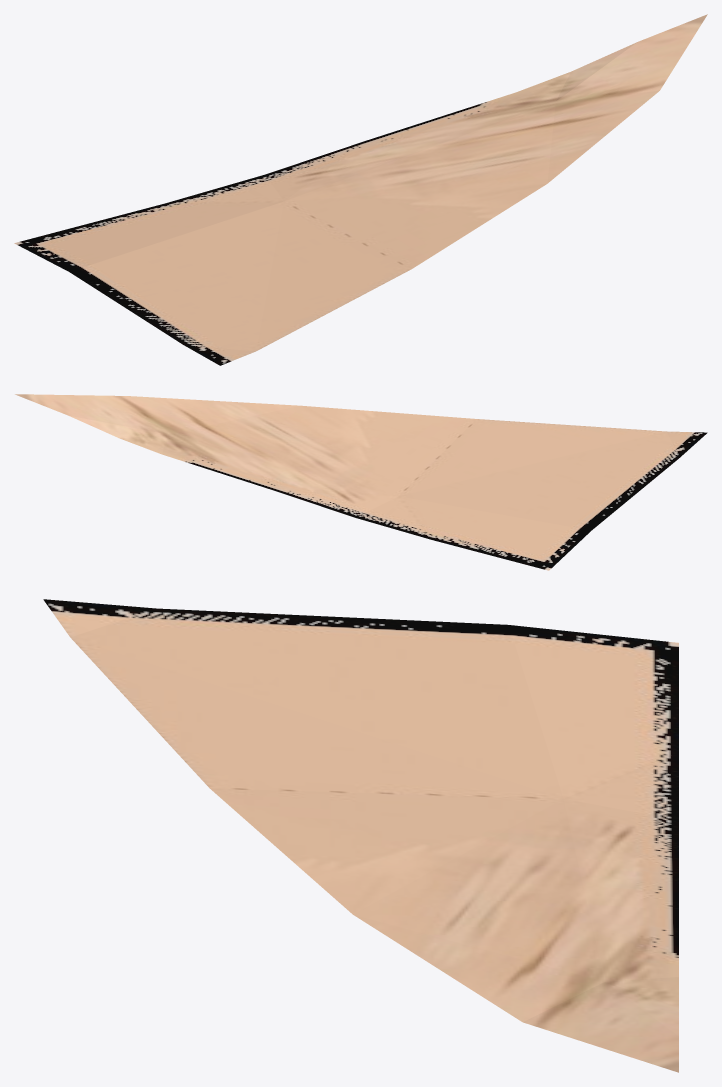
The picture shows the model from 3 angles, top to bottom: view 1: azimuth 30°, elevation 25°; view 2: azimuth 150°, elevation 25°; view 3: azimuth 270°, elevation 25°; orthographic projection. The views are drawn at different scales.
Size of the model in its own units: 1.55 by 0.1277 by 0.7978.
1 material, 1 textured.
